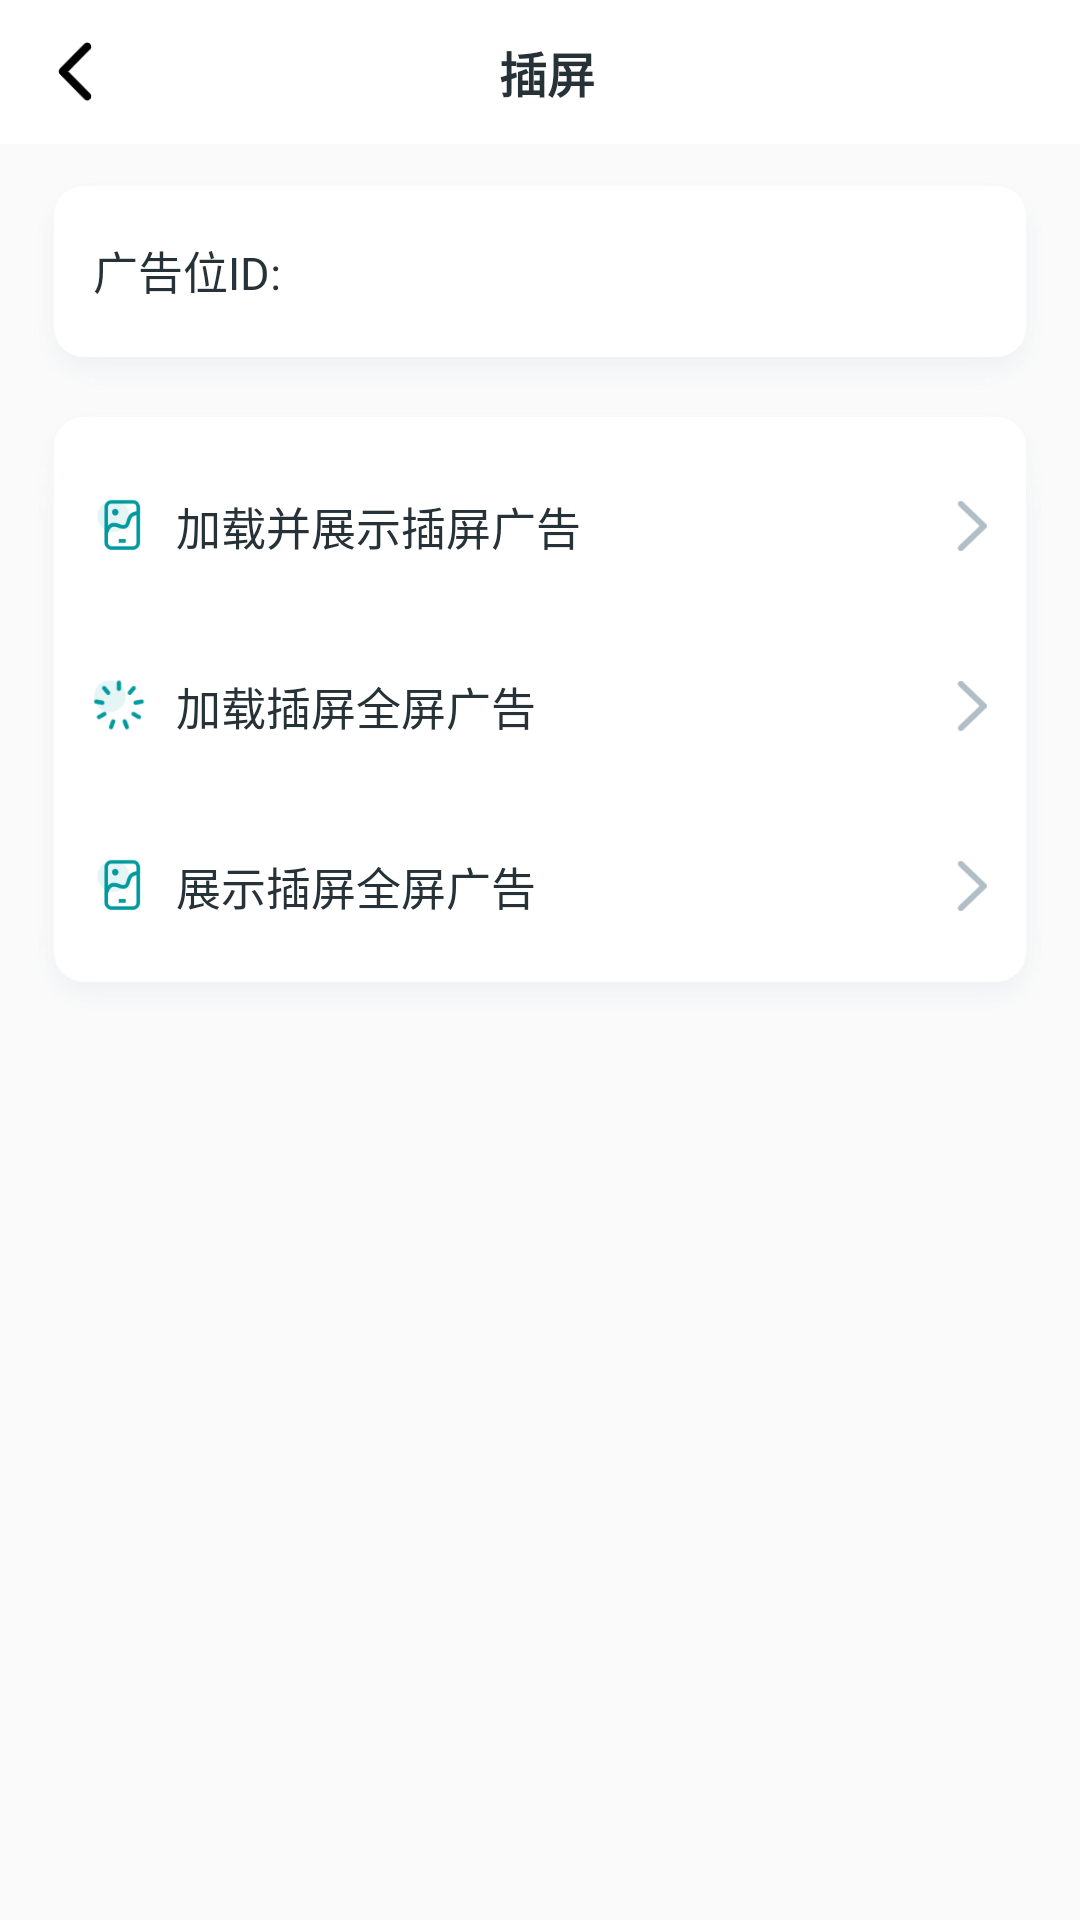

Locate icon controls on the screen. Image size 1080*1920, boxes as (x1, y1, x2, y2).
back: (58, 42, 92, 101)
